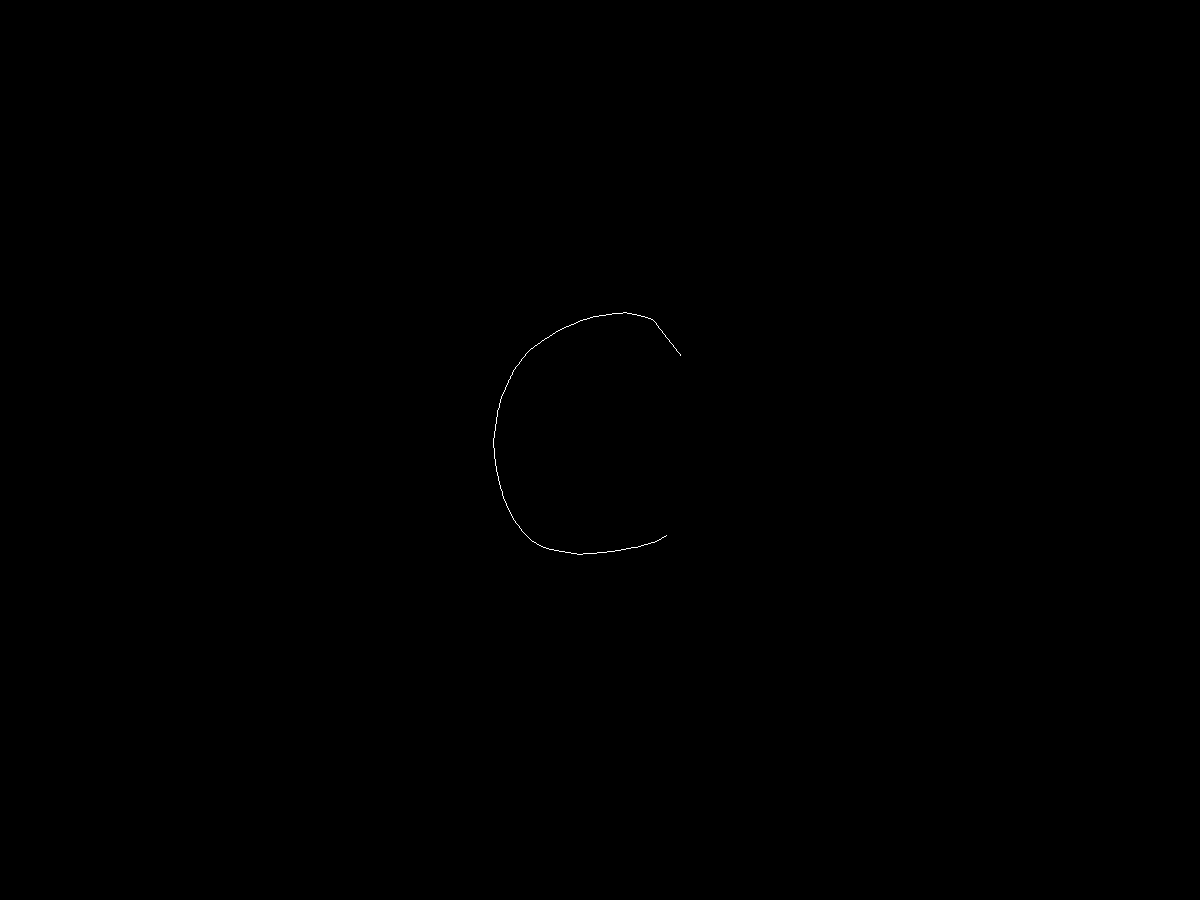dian1: (671, 347, 690, 365)
dian2: (659, 522, 683, 544)
